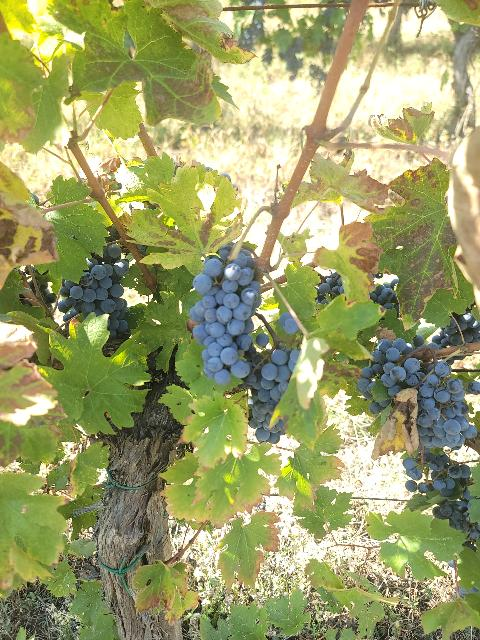grapes: (190, 245, 261, 385), (58, 242, 130, 339), (356, 339, 451, 398), (244, 349, 299, 444), (416, 374, 475, 449)
